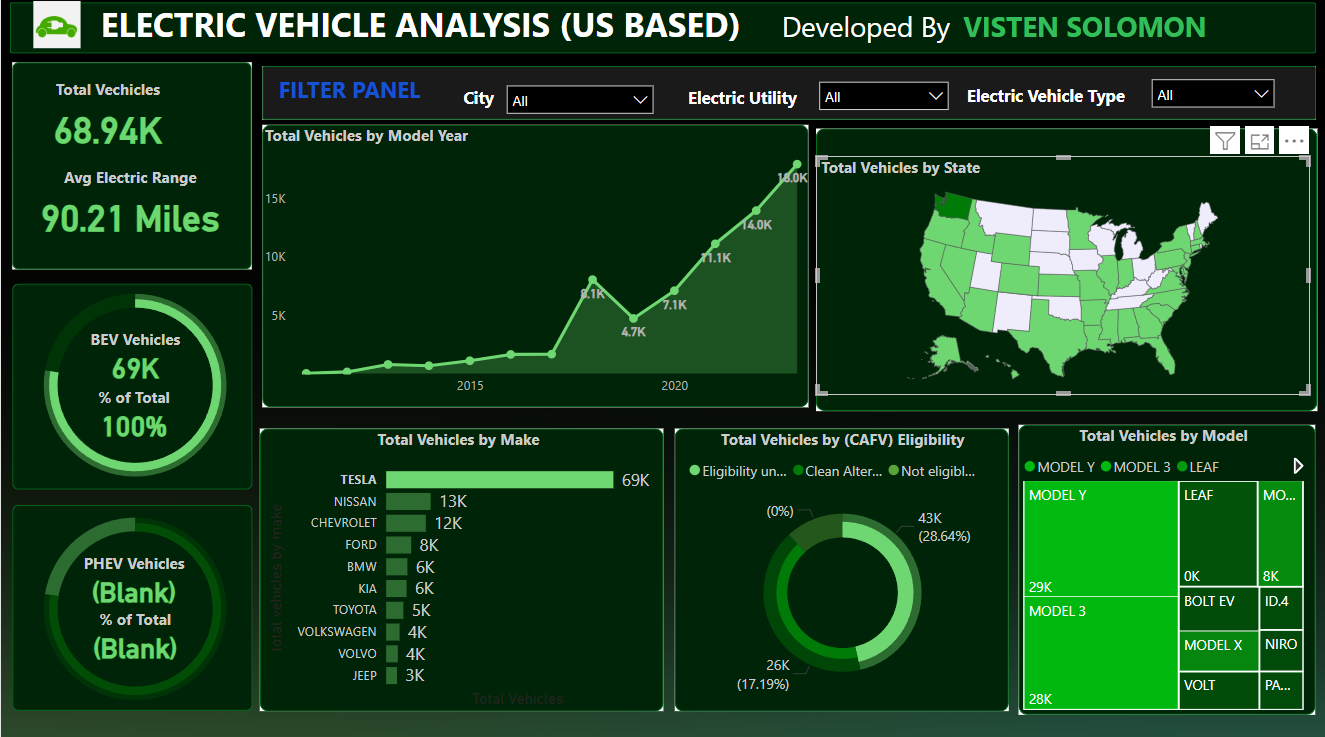

This screenshot's page, from the dashboard's own definition file:
{"tool":"powerbi","page":{"name":"Page 1","canvas":[1280,720],"ordinal":0},"visuals":[{"type":"shape","box":[8.2,5.5,1261.1,49.4],"z":0},{"type":"textbox","box":[39.8,0,1223.3,63.9],"z":1000},{"type":"shape","box":[10.6,63.8,231,200],"z":2000},{"type":"card","title":"Total Vechicles","fields":{"Values":["Electric_Vehicle_Population_Data.Total Vehicles"]},"box":[32.4,79.5,141.2,74.8],"z":3000},{"type":"card","title":"Avg Electric Range","fields":{"Values":["Electric_Vehicle_Population_Data.Avg Range"]},"box":[10.4,163.6,227.8,75.5],"z":4000},{"type":"shape","box":[11,277.2,231.9,199],"z":5000},{"type":"shape","box":[11,491.3,231.9,199],"z":6000},{"type":"donutChart","fields":{"Category":["Electric_Vehicle_Population_Data.Electric Vehicle Type"],"Y":["Electric_Vehicle_Population_Data.Total Vehicles"]},"box":[0,260.7,259.3,230.5],"z":7000},{"type":"card","title":"BEV Vehicles","fields":{"Values":["Electric_Vehicle_Population_Data.BEV Vehicles"]},"box":[70,321.1,119.4,54.9],"z":8000},{"type":"card","title":"% of Total","fields":{"Values":["Electric_Vehicle_Population_Data.% of BEV"]},"box":[68.6,376,119.4,54.9],"z":9000},{"type":"donutChart","fields":{"Category":["Electric_Vehicle_Population_Data.Electric Vehicle Type"],"Y":["Electric_Vehicle_Population_Data.Total Vehicles"]},"box":[0,476.2,259.3,230.5],"z":10000},{"type":"card","title":"PHEV Vehicles","fields":{"Values":["Electric_Vehicle_Population_Data.PHEV Vehicles"]},"box":[68.6,536.5,119.4,54.9],"z":11000},{"type":"card","title":"% of Total","fields":{"Values":["Electric_Vehicle_Population_Data.% of PHEV"]},"box":[70,591.4,119.4,54.9],"z":12000},{"type":"shape","box":[252.1,67.6,1017,51.9],"z":13000},{"type":"shape","box":[252.1,124.3,527.2,272.7],"z":14000},{"type":"stackedAreaChart","fields":{"Category":["Electric_Vehicle_Population_Data.Model Year"],"Y":["Electric_Vehicle_Population_Data.Total Vehicles"]},"box":[249.7,124.3,536.9,270.2],"z":15000},{"type":"shape","box":[786.6,127.9,483.8,272.7],"z":16000},{"type":"shapeMap","fields":{"Category":["Electric_Vehicle_Population_Data.State"],"Value":["Electric_Vehicle_Population_Data.Total Vehicles"]},"box":[786.6,154.4,476.5,230.4],"z":17000},{"type":"shape","box":[249.7,417.2,389.7,273.1],"z":18000},{"type":"barChart","fields":{"Category":["Electric_Vehicle_Population_Data.Make"],"Y":["Electric_Vehicle_Population_Data.Total Vehicles"]},"box":[252.5,417.2,378.7,274.4],"z":19000},{"type":"shape","box":[650.4,417.2,322.5,273.1],"z":20000},{"type":"donutChart","title":"Total Vehicles by (CAFV) Eligibility","fields":{"Y":["Electric_Vehicle_Population_Data.Total Vehicles"],"Category":["Electric_Vehicle_Population_Data.Clean Alternative Fuel Vehicle (CAFV) Eligibility"]},"box":[658.7,417.2,307.4,267.6],"z":21000},{"type":"shape","box":[982.5,414.4,286.8,279.9],"z":22000},{"type":"treemap","fields":{"Group":["Electric_Vehicle_Population_Data.Model"],"Values":["Electric_Vehicle_Population_Data.Total Vehicles"]},"box":[982.5,414.4,279.9,279.9],"z":23000},{"type":"textbox","box":[263.5,70,163.3,54.9],"z":24000},{"type":"slicer","fields":{"Values":["Electric_Vehicle_Population_Data.City"]},"box":[477.5,75.5,161.9,43.9],"z":25000},{"type":"textbox","box":[415.8,82.3,89.2,34.3],"z":27000},{"type":"slicer","fields":{"Values":["Electric_Vehicle_Population_Data.Electric Utility"]},"box":[779.4,72.7,145.5,43.9],"z":28000},{"type":"textbox","box":[650.4,82.3,130.4,34.3],"z":29000},{"type":"slicer","fields":{"Values":["Electric_Vehicle_Population_Data.Electric Vehicle Type"]},"box":[1100.5,70,138.6,43.9],"z":30000},{"type":"textbox","box":[915.3,79.6,185.2,34.3],"z":31000},{"type":"image","box":[0,0,107.4,55.5],"z":31001}]}

Visuals, with their boxes in screenshot pixels (x1, y1, x2, y2), scaled from the page's 1280x720 canvas onto the 1325x737 screenshot:
shape: locate(8, 6, 1314, 56)
textbox: locate(41, 0, 1308, 65)
shape: locate(11, 65, 250, 270)
"Total Vechicles" card: locate(34, 81, 180, 158)
"Avg Electric Range" card: locate(11, 167, 247, 245)
shape: locate(11, 284, 251, 487)
shape: locate(11, 503, 251, 707)
donutChart - Electric_Vehicle_Population_Data.Electric Vehicle Type x Electric_Vehicle_Population_Data.Total Vehicles: locate(0, 267, 268, 503)
"BEV Vehicles" card: locate(72, 329, 196, 385)
"% of Total" card: locate(71, 385, 195, 441)
donutChart - Electric_Vehicle_Population_Data.Electric Vehicle Type x Electric_Vehicle_Population_Data.Total Vehicles: locate(0, 487, 268, 723)
"PHEV Vehicles" card: locate(71, 549, 195, 605)
"% of Total" card: locate(72, 605, 196, 662)
shape: locate(261, 69, 1314, 122)
shape: locate(261, 127, 807, 406)
stackedAreaChart - Electric_Vehicle_Population_Data.Model Year x Electric_Vehicle_Population_Data.Total Vehicles: locate(258, 127, 814, 404)
shape: locate(814, 131, 1315, 410)
shapeMap - Electric_Vehicle_Population_Data.State x Electric_Vehicle_Population_Data.Total Vehicles: locate(814, 158, 1308, 394)
shape: locate(258, 427, 662, 707)
barChart - Electric_Vehicle_Population_Data.Make x Electric_Vehicle_Population_Data.Total Vehicles: locate(261, 427, 653, 708)
shape: locate(673, 427, 1007, 707)
"Total Vehicles by (CAFV) Eligibility" donutChart: locate(682, 427, 1000, 701)
shape: locate(1017, 424, 1314, 711)
treemap - Electric_Vehicle_Population_Data.Model x Electric_Vehicle_Population_Data.Total Vehicles: locate(1017, 424, 1307, 711)
textbox: locate(273, 72, 442, 128)
slicer - Electric_Vehicle_Population_Data.City: locate(494, 77, 662, 122)
textbox: locate(430, 84, 523, 119)
slicer - Electric_Vehicle_Population_Data.Electric Utility: locate(807, 74, 957, 119)
textbox: locate(673, 84, 808, 119)
slicer - Electric_Vehicle_Population_Data.Electric Vehicle Type: locate(1139, 72, 1283, 117)
textbox: locate(947, 81, 1139, 117)
image: locate(0, 0, 111, 57)
